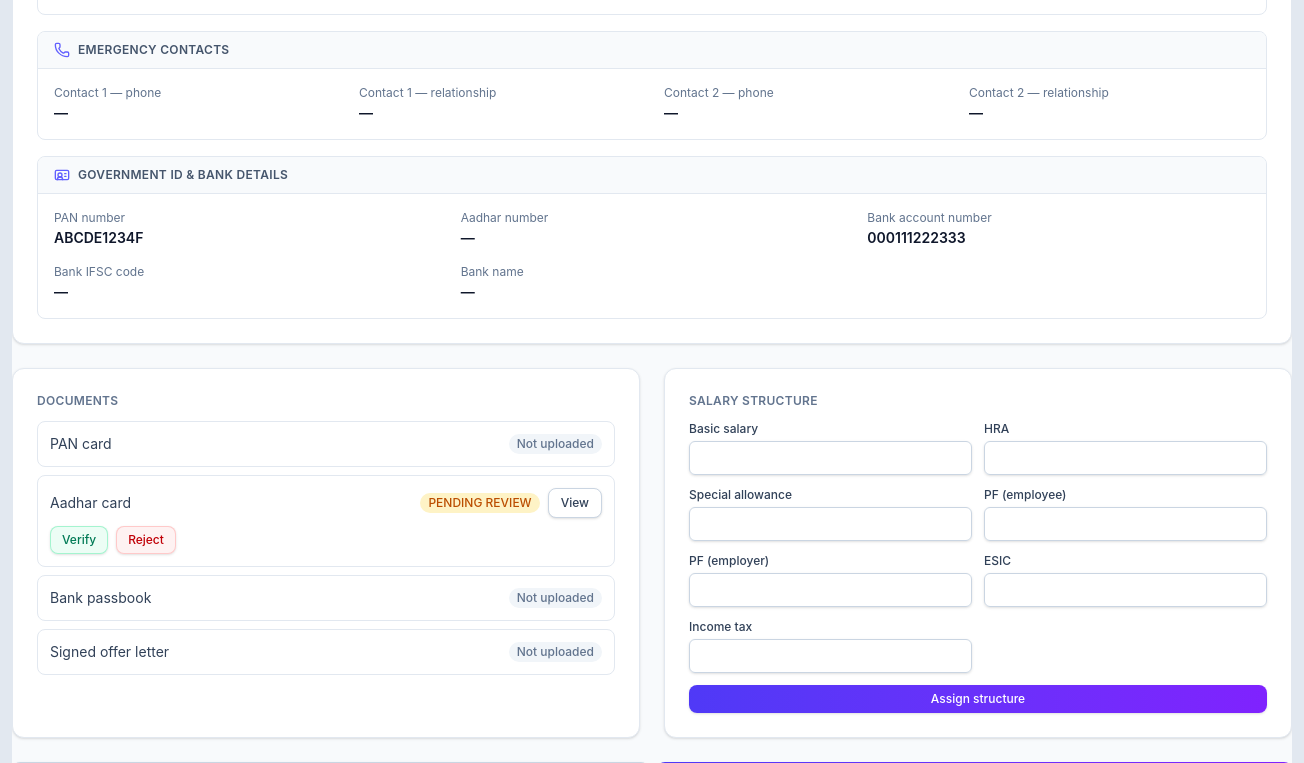
Scenario: EmployeeVerificationDetailPage › rejects a document with an optional comment
(page scrolled)
Expected: the text "PENDING REVIEW" is shown, [420,493,540,513]
Click the button "Reject" at x=146, y=540, box [116,526,176,554]
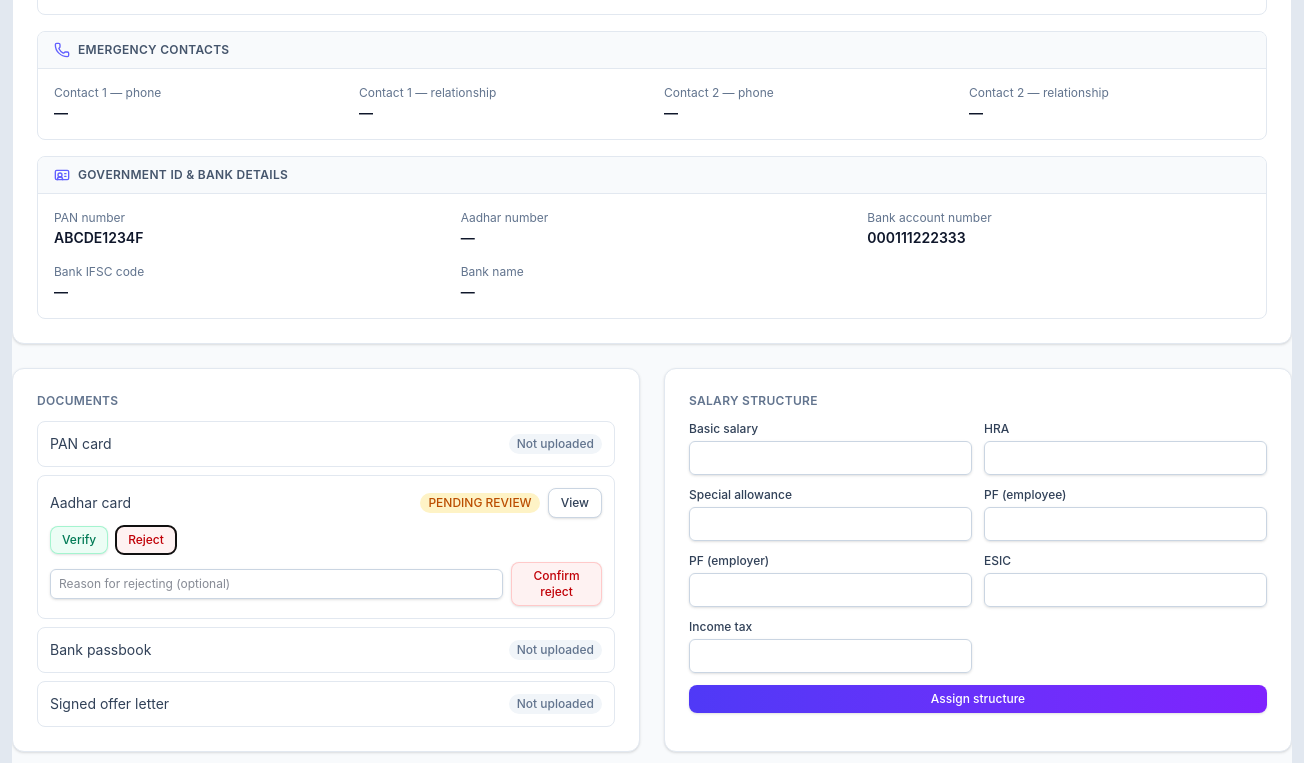
Type "Blurry copy" into the field with placeholder "Reason for rejecting (optional)" at x=277, y=584, box [50,569,503,599]
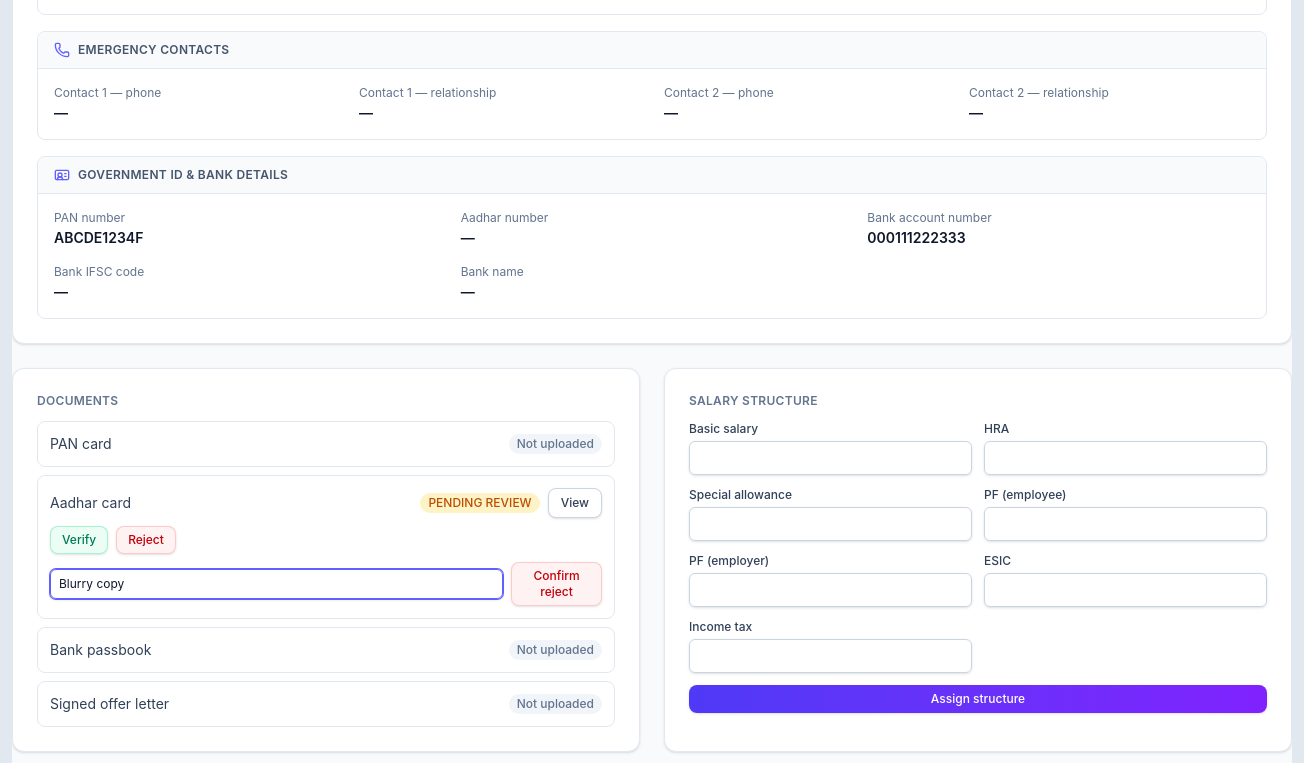
Click the button "Confirm reject" at x=557, y=584, box [511,562,602,606]
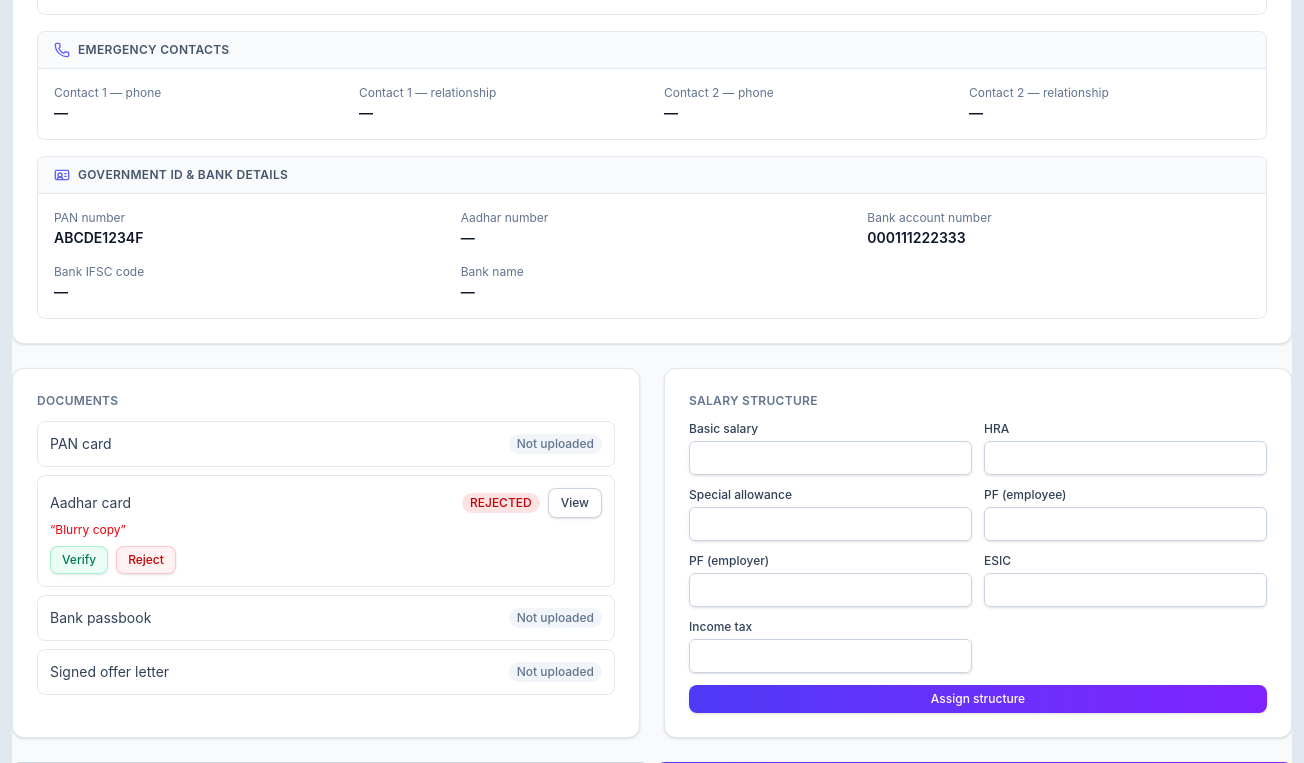
Result: the text "REJECTED" is shown at [462,493,540,513]
Result: the text "“Blurry copy”" is shown at [50,522,126,537]
